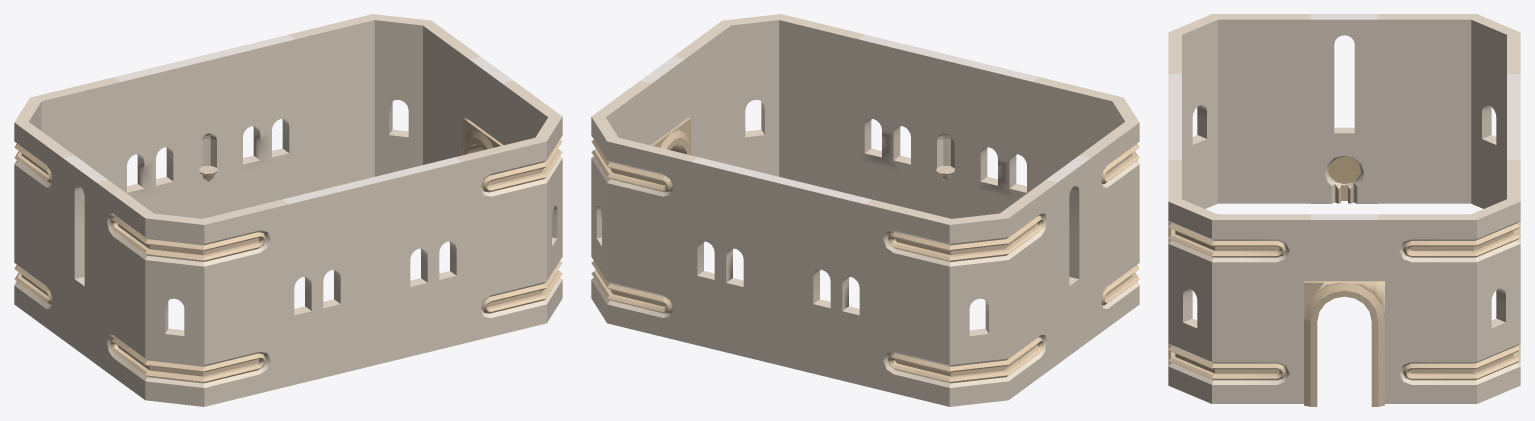
File: Longhouse.glb
3 renders of one model, left to right at view 1: azimuth 30°, elevation 25°; view 2: azimuth 150°, elevation 25°; view 3: azimuth 270°, elevation 25°, orthographic.
Visible parts, largest first — view 1: object2.099, object2.093, object1.285, object2.105, object1.291, object1.315, object2.101, object1.304, object1.310, object1.312, object1.314, object2.103 (+42 smaller); view 2: object2.108, object2.090, object1.294, object2.102, object1.288, object1.315, object2.109, object1.299, object1.312, object1.301, object1.304, object2.107 (+42 smaller); view 3: object1.315, object2.102, object2.105, object1.321, object2.112, object2.087, object2.096, object2.104, object2.106, object2.100, object2.110, object1.288 (+26 smaller).
Boxes of the visible parts, x1,y1,x2,y2 form: object2.099: [130, 204, 230, 285]; object2.093: [130, 329, 230, 406]; object1.285: [130, 268, 230, 346]; object2.105: [346, 14, 446, 94]; object1.291: [353, 80, 435, 155]; object1.315: [63, 155, 107, 303]; object2.101: [224, 199, 288, 278]; object1.304: [115, 63, 179, 142]; object1.310: [340, 171, 404, 250]; object1.312: [282, 185, 346, 264]; object1.314: [398, 157, 462, 236]; object2.103: [456, 143, 520, 222]; object2.108: [923, 204, 1023, 285]; object2.090: [923, 329, 1023, 406]; object1.294: [923, 268, 1023, 346]; object2.102: [707, 14, 807, 94]; object1.288: [718, 80, 800, 155]; object1.315: [1046, 155, 1090, 303]; object2.109: [865, 199, 929, 278]; object1.299: [749, 171, 813, 250]; object1.312: [974, 63, 1038, 142]; object1.301: [691, 157, 755, 236]; object1.304: [807, 185, 871, 264]; object2.107: [633, 143, 697, 222]; object1.315: [1310, 14, 1378, 142]; object2.102: [1168, 188, 1242, 281]; object2.105: [1446, 188, 1520, 281]; object1.321: [1310, 214, 1378, 281]; object2.112: [1304, 281, 1384, 406]; object2.087: [1446, 324, 1520, 403]; object2.096: [1168, 324, 1242, 403]; object2.104: [1243, 214, 1310, 281]; object2.106: [1378, 214, 1445, 281]; object2.100: [1243, 14, 1310, 80]; object2.110: [1378, 14, 1445, 80]; object1.288: [1168, 263, 1242, 342].
Size of the model in its own units: 7.3 by 3 by 5.2.
